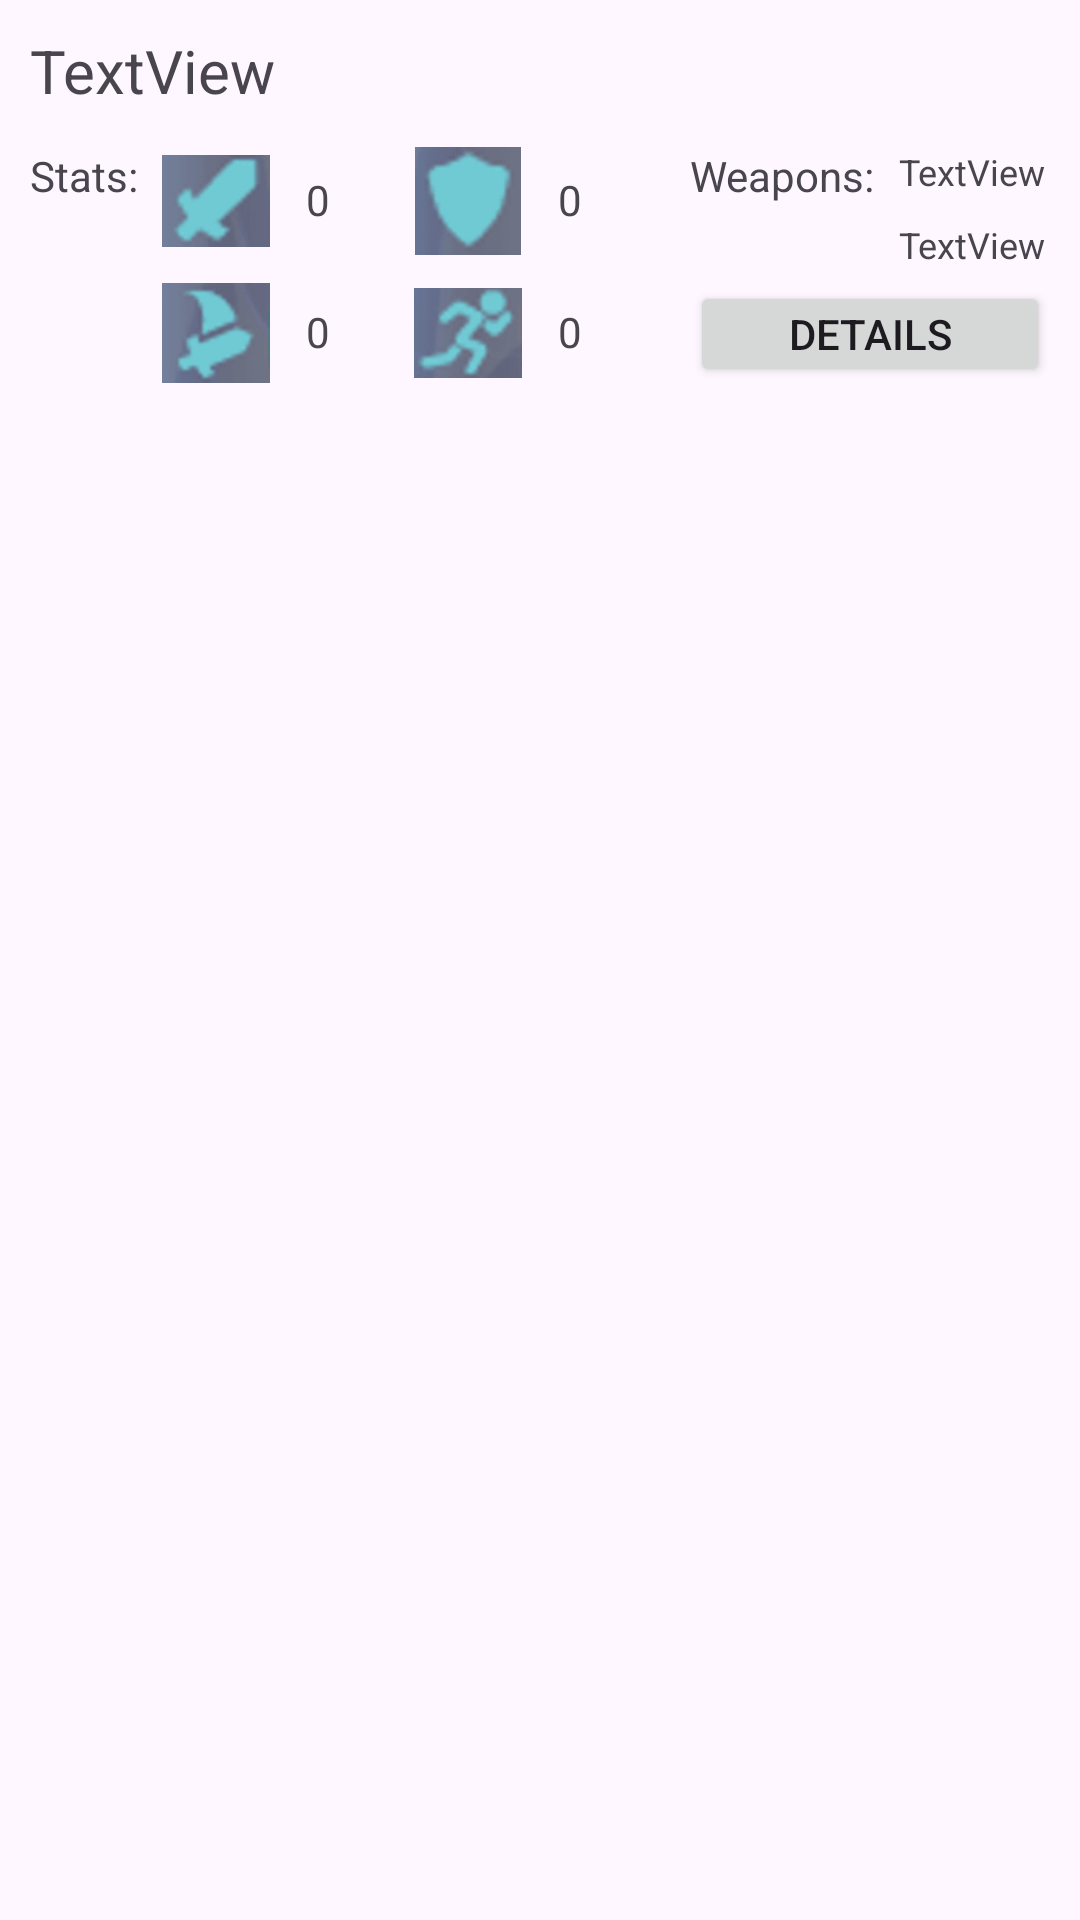

Icons on this 1080*1920 Android screen, each with the point to tap as (x=x, y=y):
damage: (x=216, y=201)
defense: (x=468, y=201)
dexterity: (x=216, y=333)
speed: (x=468, y=333)
